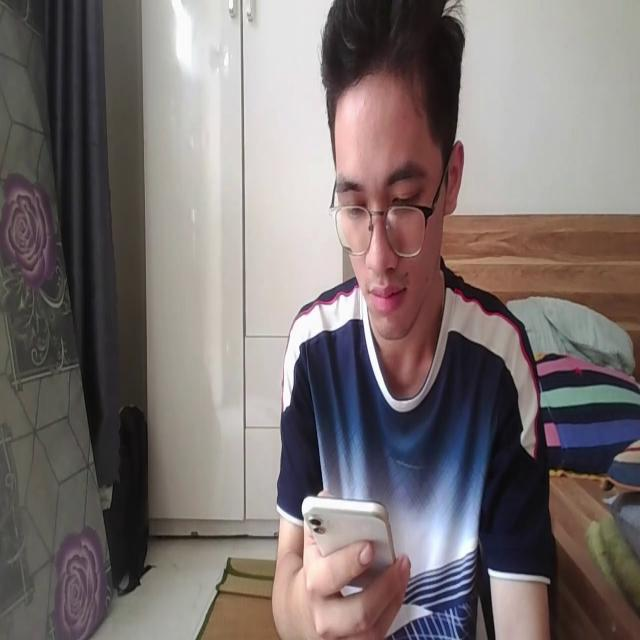phone: (299, 489, 396, 575)
student: (254, 2, 556, 640)
